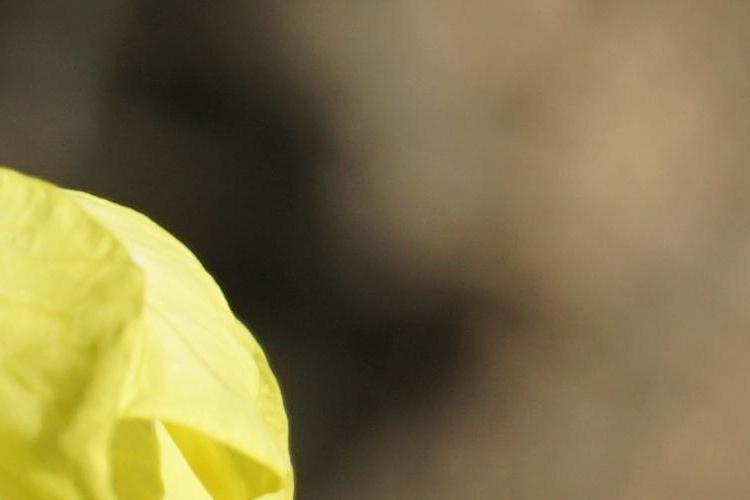yellow: (5, 167, 258, 500)
